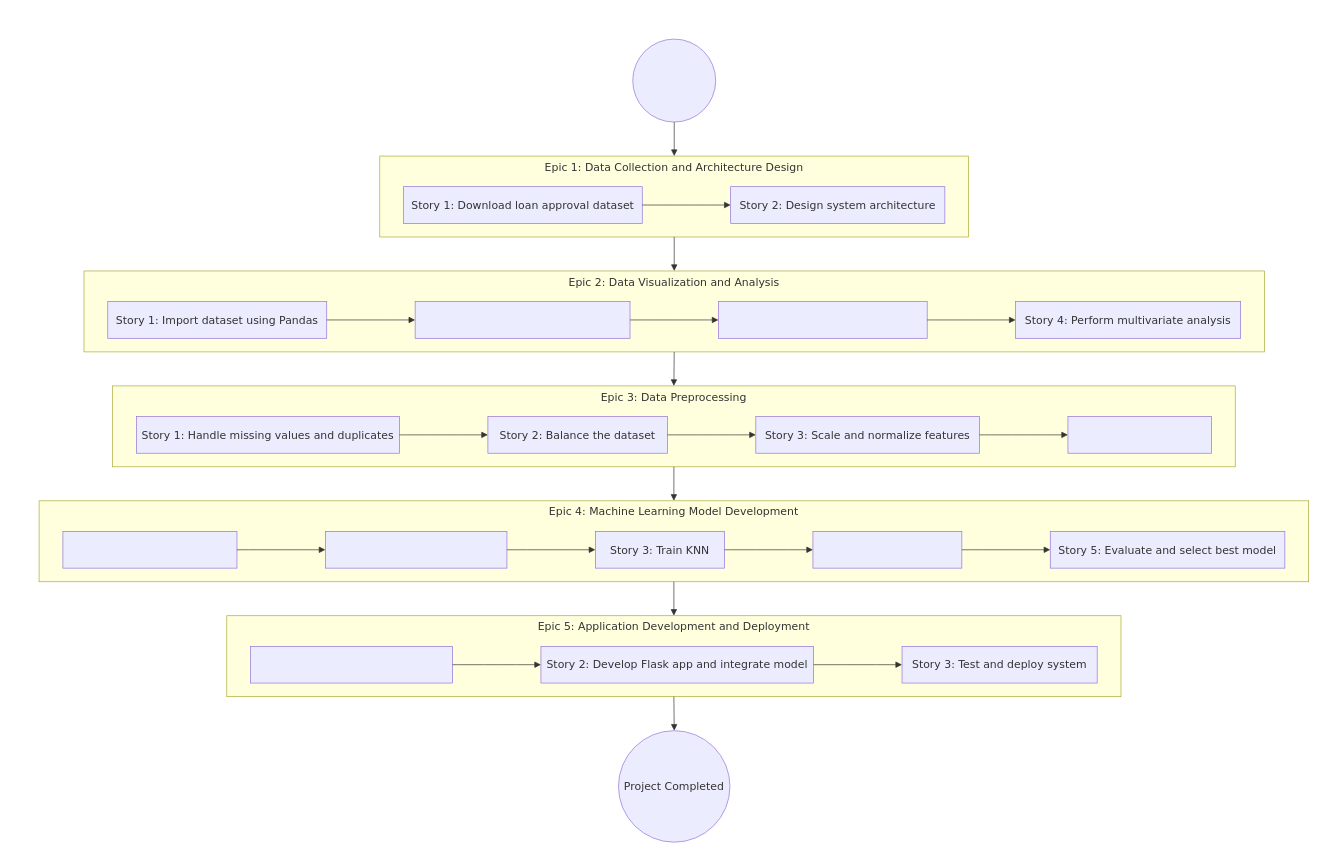
Some shapes in this 1321 by 854 pixel diagram are drawn without their labels. Here are the shapes that lost their labels. From the top down, the centre of each, then its label:
At point (674, 80): "Project Start".
At point (522, 319): "Story 2: Perform univariate analysis".
At point (822, 319): "Story 3: Perform bivariate analysis".
At point (1139, 434): "Story 4: Split dataset".
At point (149, 549): "Story 1: Train Decision Tree".
At point (416, 549): "Story 2: Train Random Forest".
At point (887, 549): "Story 4: Train XGBoost".
At point (351, 664): "Story 1: Design UI with Bootstrap".
